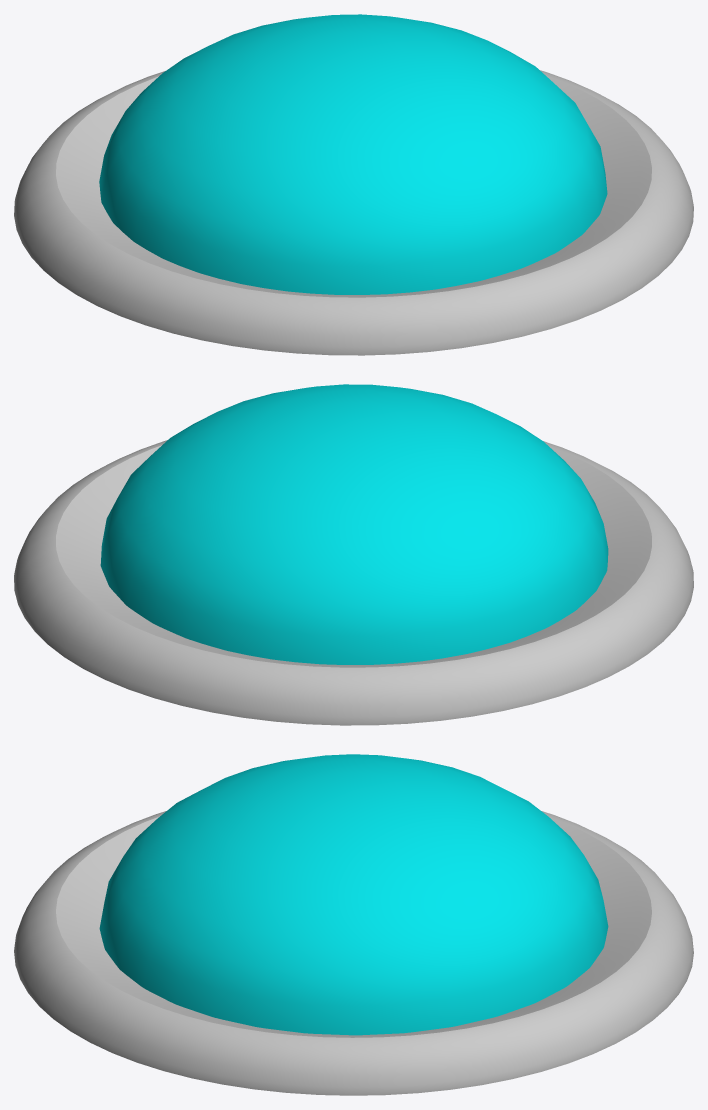
File: EnergyLed.fbx
The picture shows the model from 3 angles, top to bottom: view 1: azimuth 30°, elevation 25°; view 2: azimuth 150°, elevation 25°; view 3: azimuth 270°, elevation 25°; orthographic projection.
Visible parts, largest first — view 1: Sphere.001, ButtonBase.005; view 2: Sphere.001, ButtonBase.005; view 3: Sphere.001, ButtonBase.005.
Part boxes in pixels (x1,y1,x2,y2): Sphere.001: [99, 14, 607, 294]; ButtonBase.005: [14, 70, 693, 355]; Sphere.001: [100, 384, 608, 664]; ButtonBase.005: [14, 440, 693, 725]; Sphere.001: [99, 754, 608, 1035]; ButtonBase.005: [14, 811, 693, 1095].
Size of the model in its own units: 9.88 by 2.58 by 9.88.
